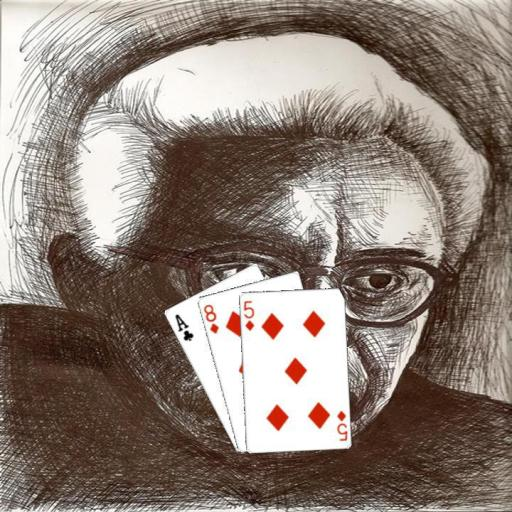5D: (241, 297, 256, 332), (334, 407, 349, 442)
8D: (200, 301, 220, 335)
AC: (171, 311, 195, 342)
